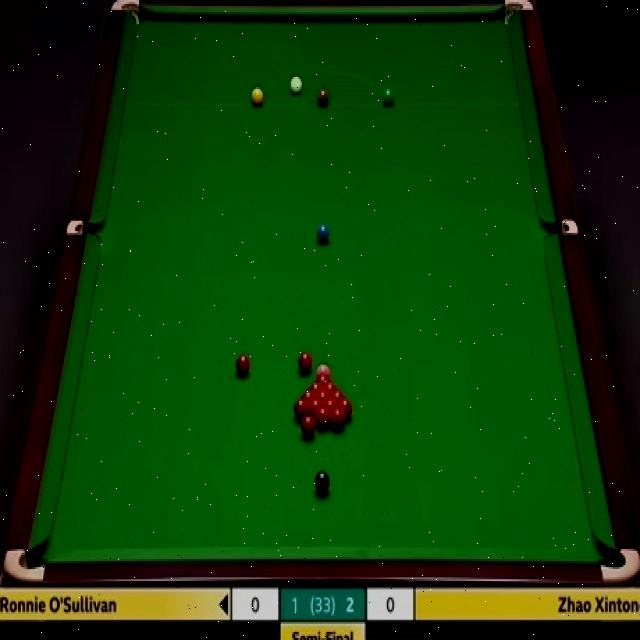black-ball: (315, 469, 330, 495)
blue-ball: (316, 223, 330, 241)
brown-ball: (316, 89, 330, 106)
green-ball: (381, 85, 396, 109)
pink-ball: (316, 364, 332, 381)
red-ball: (332, 405, 346, 434), (294, 396, 309, 420), (298, 352, 313, 376), (315, 406, 330, 428), (237, 354, 250, 378), (337, 399, 353, 418), (301, 417, 315, 438), (316, 389, 331, 405), (310, 399, 322, 418), (300, 389, 315, 403), (309, 379, 322, 395), (324, 379, 336, 395), (324, 400, 338, 412), (332, 390, 346, 400)
white-ball: (290, 75, 302, 97)
yellow-ball: (250, 86, 264, 107)
